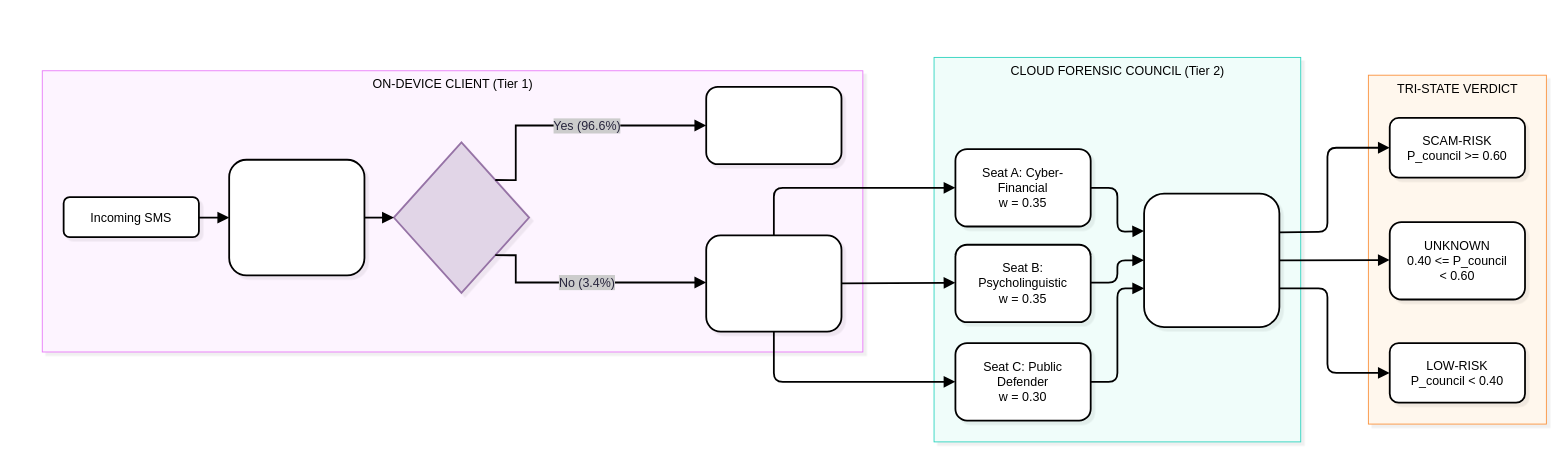
Image size: 1566x461. Some labels were removed from this diagram. Here are the shapes that lost their labels. From the top down, the centre of each, then its label:
At (775,126): "Local Verdict SCAM-RISK / LOW-RISK".
At (298,218): "Tier 1 Edge Screener ViSoBERT INT8 (98.42 MB, 70.7 ms)".
At (462,219): "C_T1 >= 0.90 ?".
At (1213,261): "Weighted Consensus P_council = sum(w_j P_j) - 0.25 I(Seat C = BENIGN)".
At (775,285): "Client-side PII Sanitizer phone, account, OTP masked".
